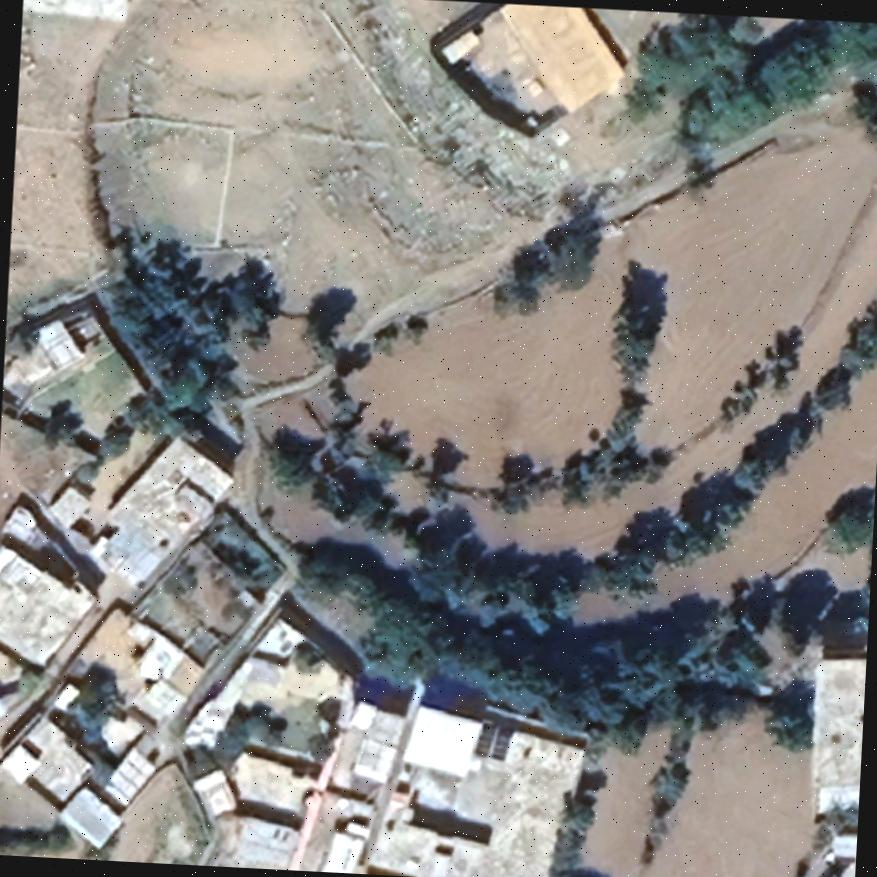Solarpanel: (471, 718, 517, 766)
